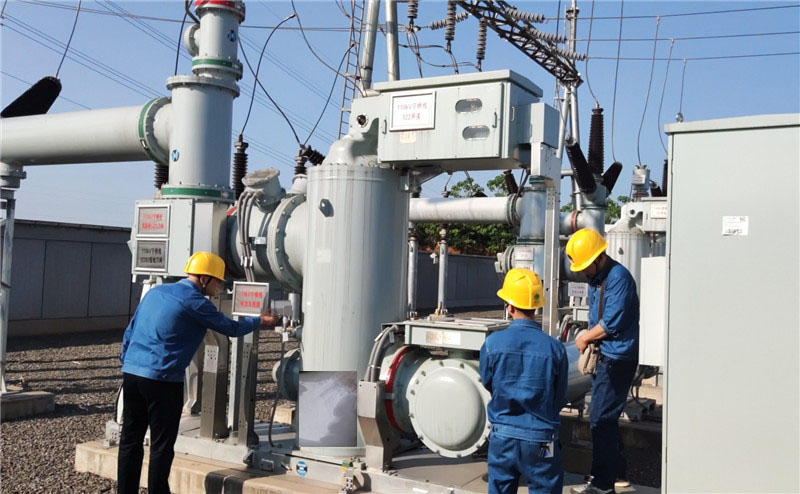oil: (297, 372, 360, 446)
